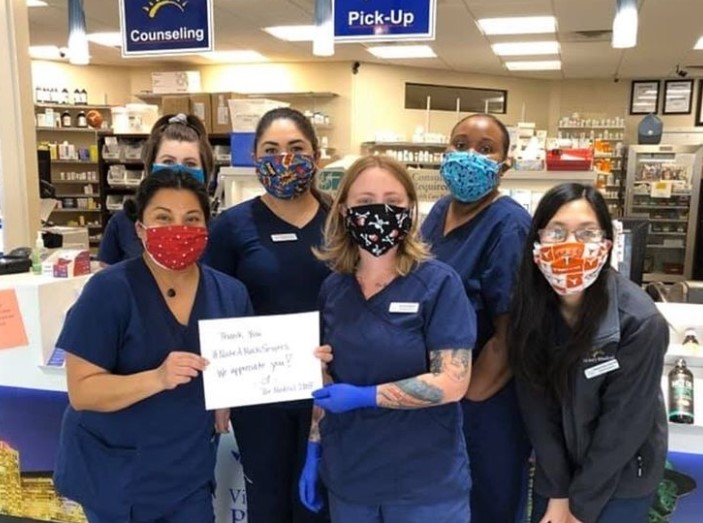face_with_mask: (533, 187, 616, 297), (132, 171, 217, 272), (335, 159, 416, 260), (250, 111, 326, 203), (439, 112, 510, 206), (148, 124, 215, 199)
